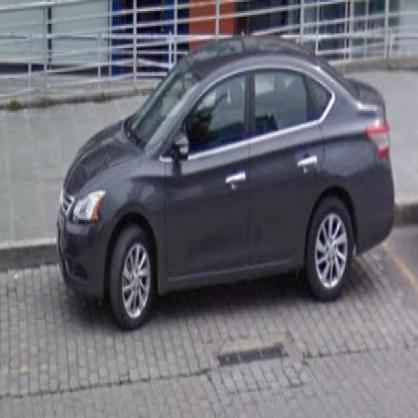car: (58, 32, 397, 331)
